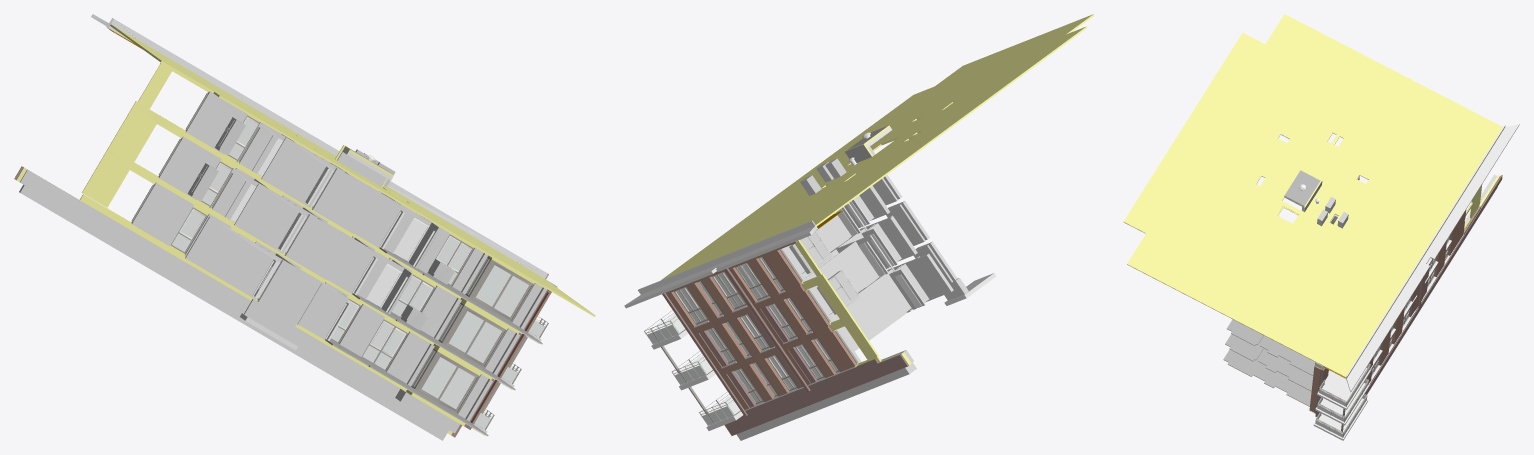
3 renders of one model, left to right at view 1: azimuth 30°, elevation 25°; view 2: azimuth 150°, elevation 25°; view 3: azimuth 270°, elevation 25°, orthographic. The views are drawn at different scales.
Parts seen in each view (by area): view 1: mesh; view 2: mesh; view 3: mesh.
Boxes of the visible parts, x1=… form: mesh: x1=14, y1=14, x2=595, y2=440; mesh: x1=624, y1=14, x2=1094, y2=440; mesh: x1=1123, y1=14, x2=1519, y2=440.
Bounding box in the file's own units: 29.14 × 30.61 × 34.91.
